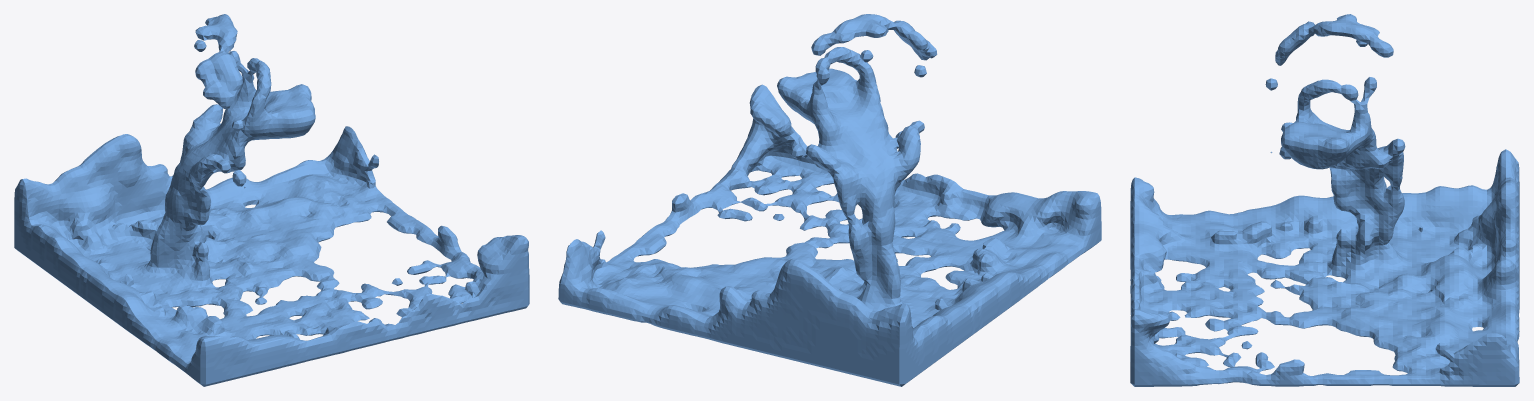
Rendered from water_0074.glb.
3 renders of one model, left to right at view 1: azimuth 30°, elevation 25°; view 2: azimuth 150°, elevation 25°; view 3: azimuth 270°, elevation 25°, orthographic. The views are drawn at different scales.
Visible parts, largest first — view 1: Water_0074; view 2: Water_0074; view 3: Water_0074.
Boxes of the visible parts, box(x1,y1,x2,y2) form: Water_0074: box(14, 14, 529, 386); Water_0074: box(558, 14, 1101, 386); Water_0074: box(1130, 14, 1519, 386).
Size of the model in its own units: 4.83 by 3.63 by 4.83.
